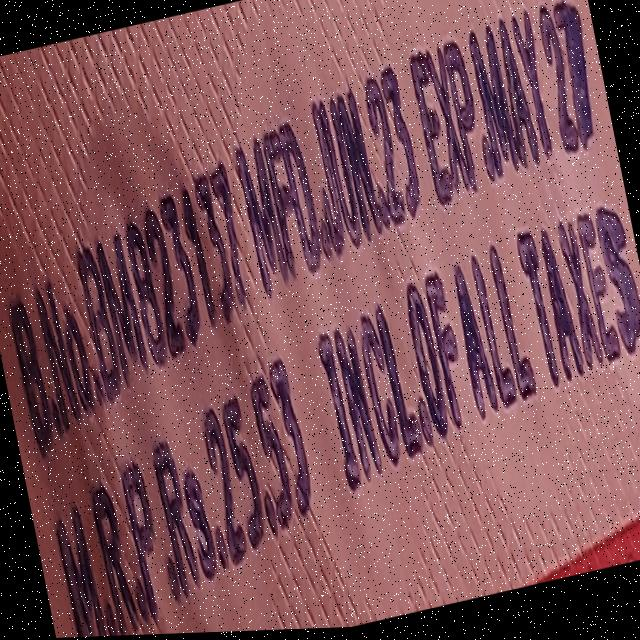sentence: (10, 4, 594, 459), (55, 208, 640, 638)
